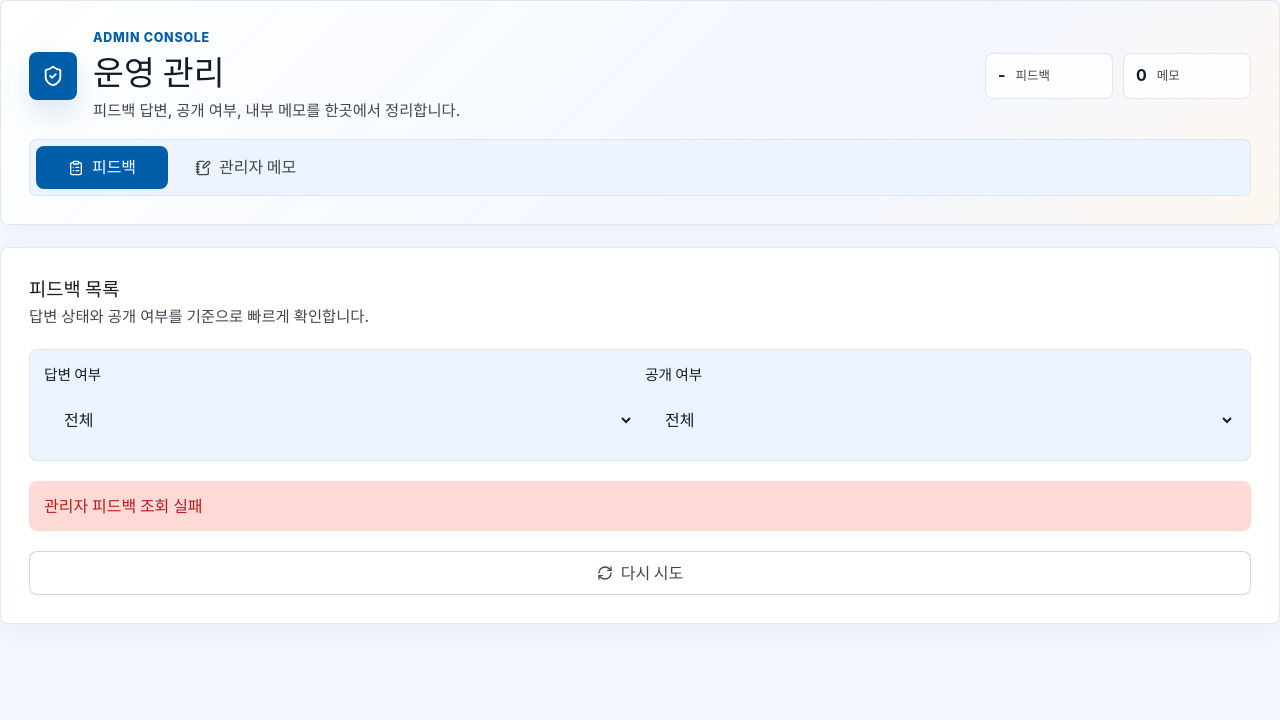
it: AdminPage › should_retry_feedback_loading_when_retry_button_is_clicked_after_error
Expected: the text "관리자 피드백 조회 실패" is shown, [29, 481, 1251, 531]
Click the button "다시 시도" at (640, 573), box [29, 551, 1251, 595]
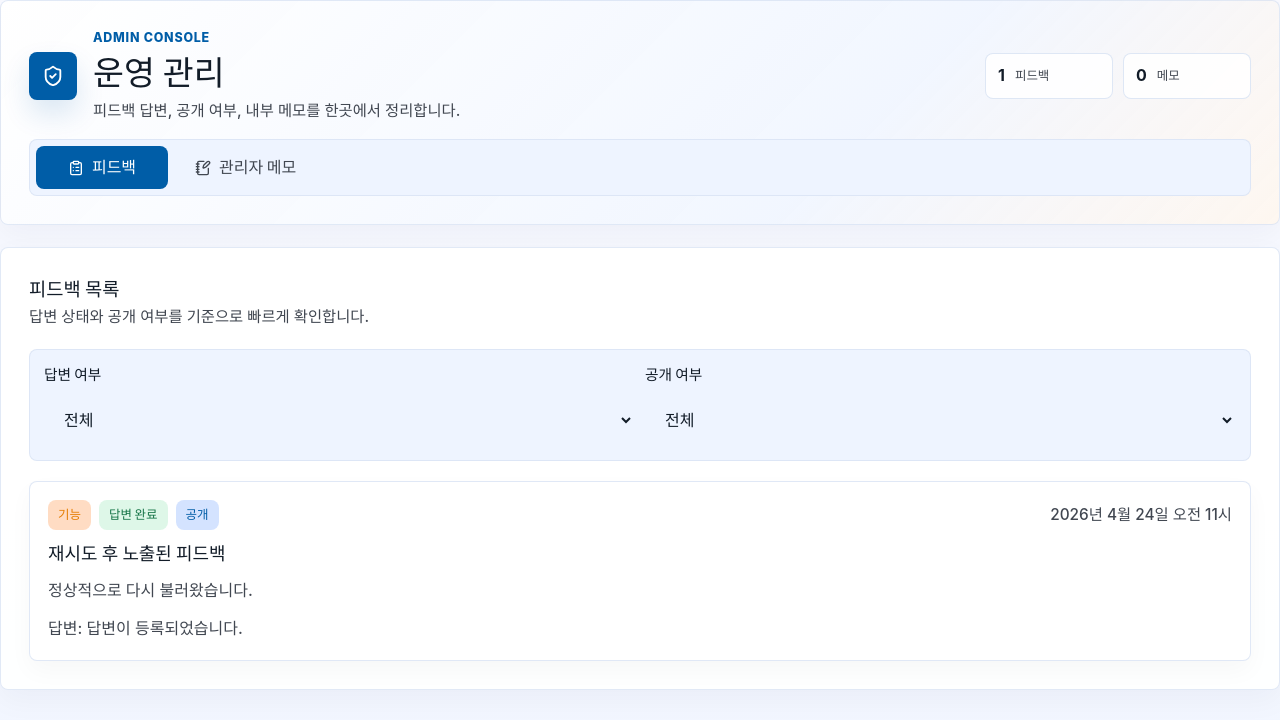
Result: the heading "재시도 후 노출된 피드백" is shown at [48, 543, 226, 564]
